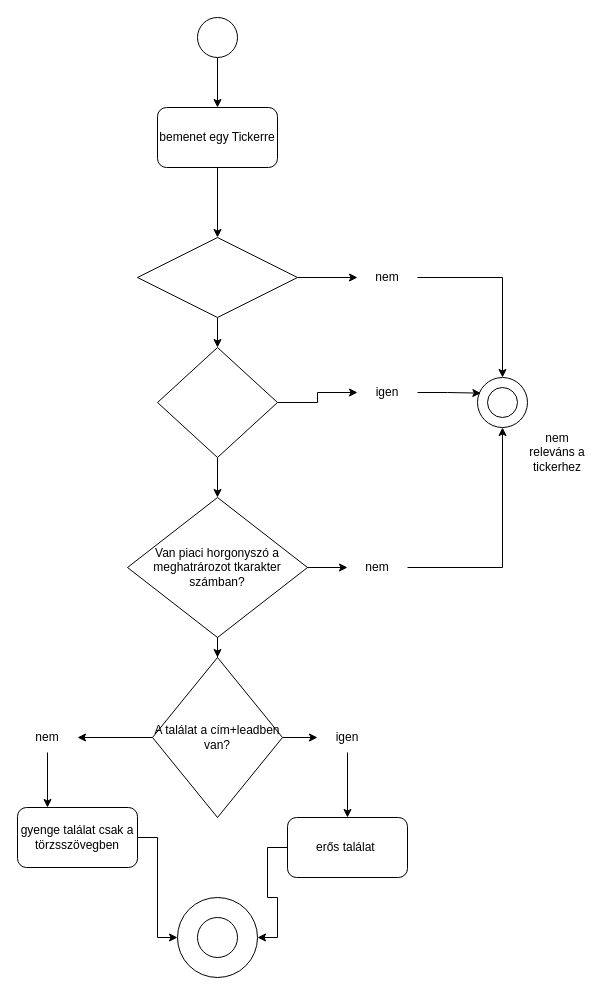
Image size: 605x995. Some labels were removed from this diagram. The box of each missing label's shape, as (x1, y1, x2, y2) in pixels:
Illeszkedik a gyenge vagy eros minta?: (136, 236, 298, 318)
illeszkedik a kizéró minta?: (156, 346, 278, 458)
